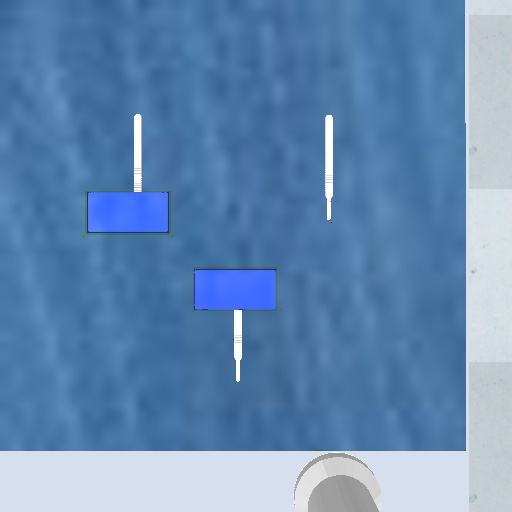bisturi: (317, 111, 343, 225), (127, 111, 149, 192), (227, 309, 248, 386)
